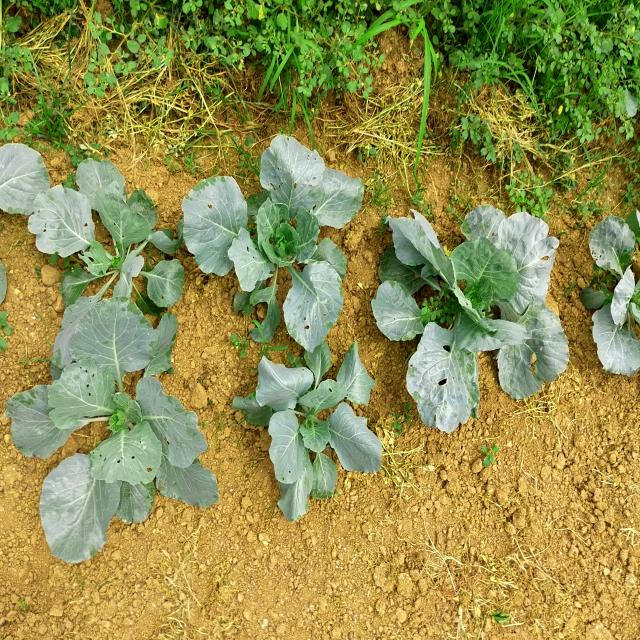Cabbage: (2, 332, 233, 572), (369, 198, 578, 433), (176, 134, 366, 351), (235, 336, 382, 527), (36, 148, 173, 311), (581, 199, 640, 381), (0, 119, 52, 302)
